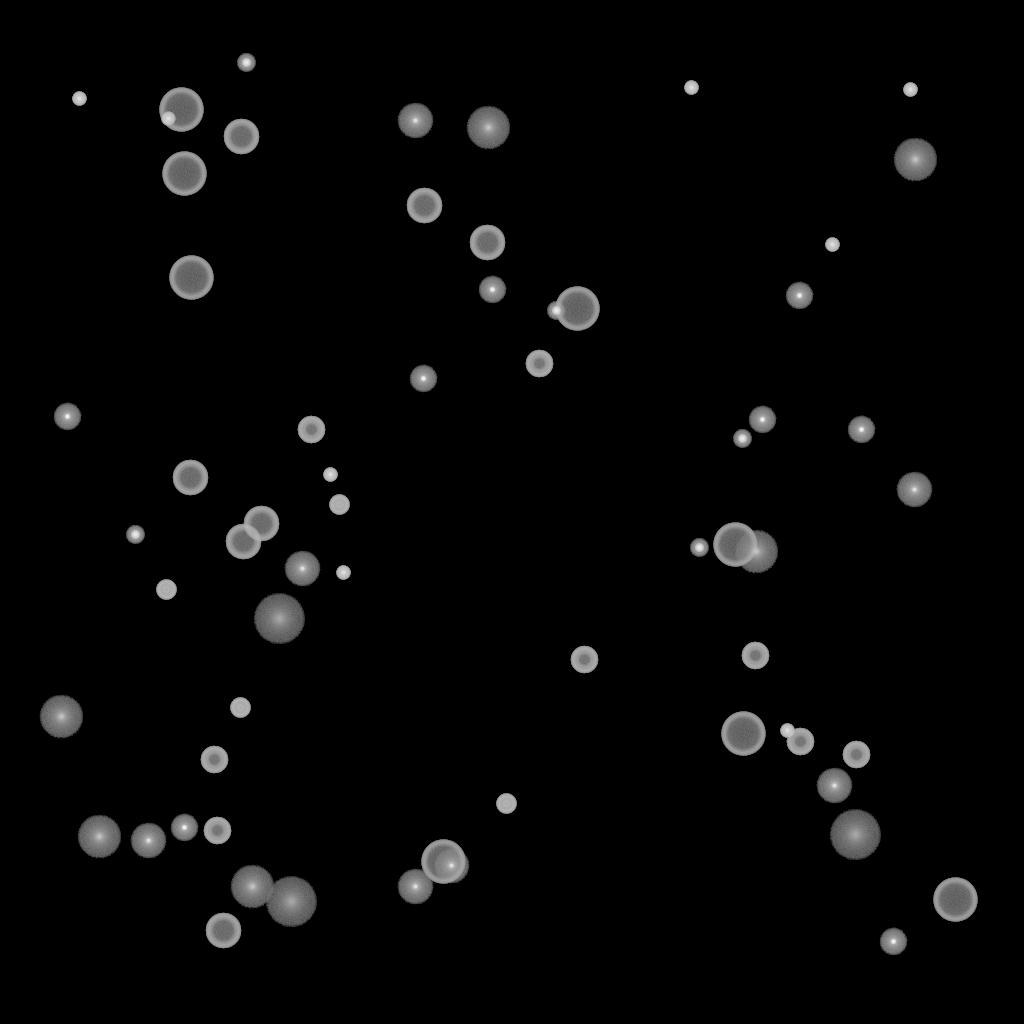depth:-10: (53, 403, 81, 431), (748, 406, 776, 434), (409, 365, 437, 393), (478, 276, 506, 304), (879, 928, 907, 956), (170, 814, 198, 842), (847, 416, 875, 444), (785, 282, 813, 310)
depth:-20: (547, 302, 565, 320), (126, 526, 144, 544), (733, 430, 751, 448), (237, 54, 255, 72), (690, 539, 708, 557)
depth:-30: (323, 468, 337, 482), (903, 83, 917, 97), (336, 566, 350, 580), (684, 81, 698, 95), (72, 92, 86, 106), (161, 112, 175, 126), (825, 238, 839, 252), (780, 724, 794, 738)
depth:-40: (496, 794, 516, 814), (156, 580, 176, 600), (329, 495, 349, 515), (230, 698, 250, 718)
depth:-50: (200, 746, 228, 774), (786, 728, 814, 756), (842, 741, 870, 769), (297, 416, 325, 444), (525, 350, 553, 378), (203, 817, 231, 845), (570, 646, 598, 674), (741, 642, 769, 670)
depth:-60: (469, 225, 505, 261), (243, 506, 279, 542), (172, 460, 208, 496), (225, 524, 261, 560), (223, 119, 259, 155), (406, 188, 442, 224), (205, 913, 241, 949)
depth:-70: (421, 840, 465, 884), (159, 88, 203, 132), (169, 256, 213, 300), (933, 878, 977, 922), (721, 712, 765, 756), (162, 152, 206, 196), (555, 287, 599, 331), (713, 523, 757, 567)
depth:0: (397, 869, 433, 905), (896, 472, 932, 508), (816, 768, 852, 804), (397, 103, 433, 139), (130, 823, 166, 859), (433, 848, 469, 884), (284, 551, 320, 587)
depth:10: (466, 106, 510, 150), (734, 530, 778, 574), (893, 138, 937, 182), (77, 815, 121, 859), (230, 865, 274, 909), (39, 695, 83, 739)
depth:20: (829, 810, 881, 860), (265, 877, 317, 927), (253, 594, 305, 644)
